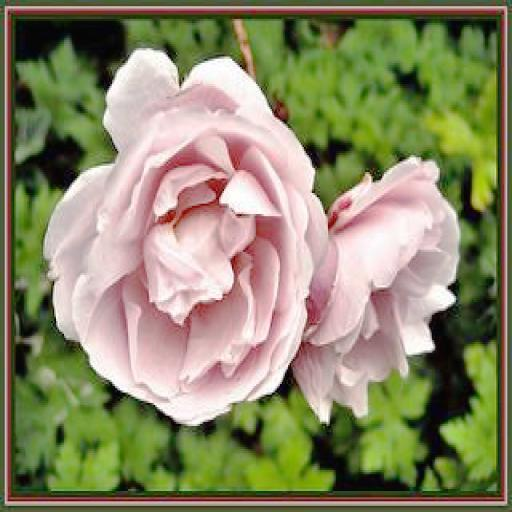rose: (46, 46, 320, 424), (314, 157, 460, 424)
